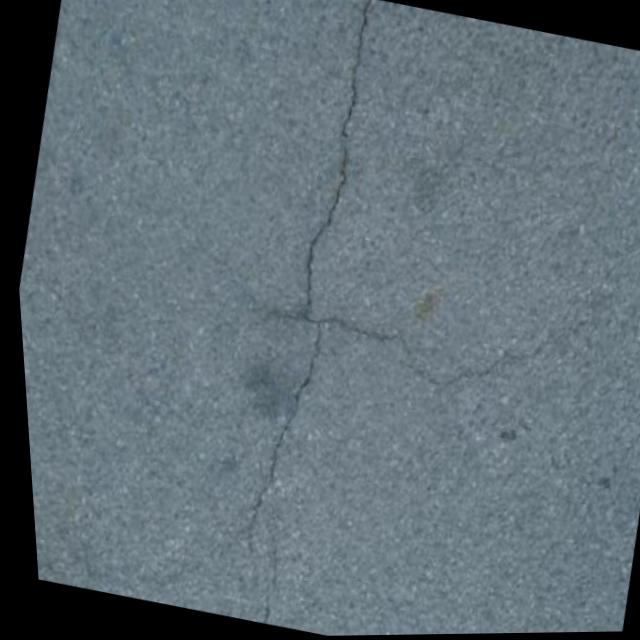Crack: (187, 0, 409, 627), (306, 276, 560, 426)
